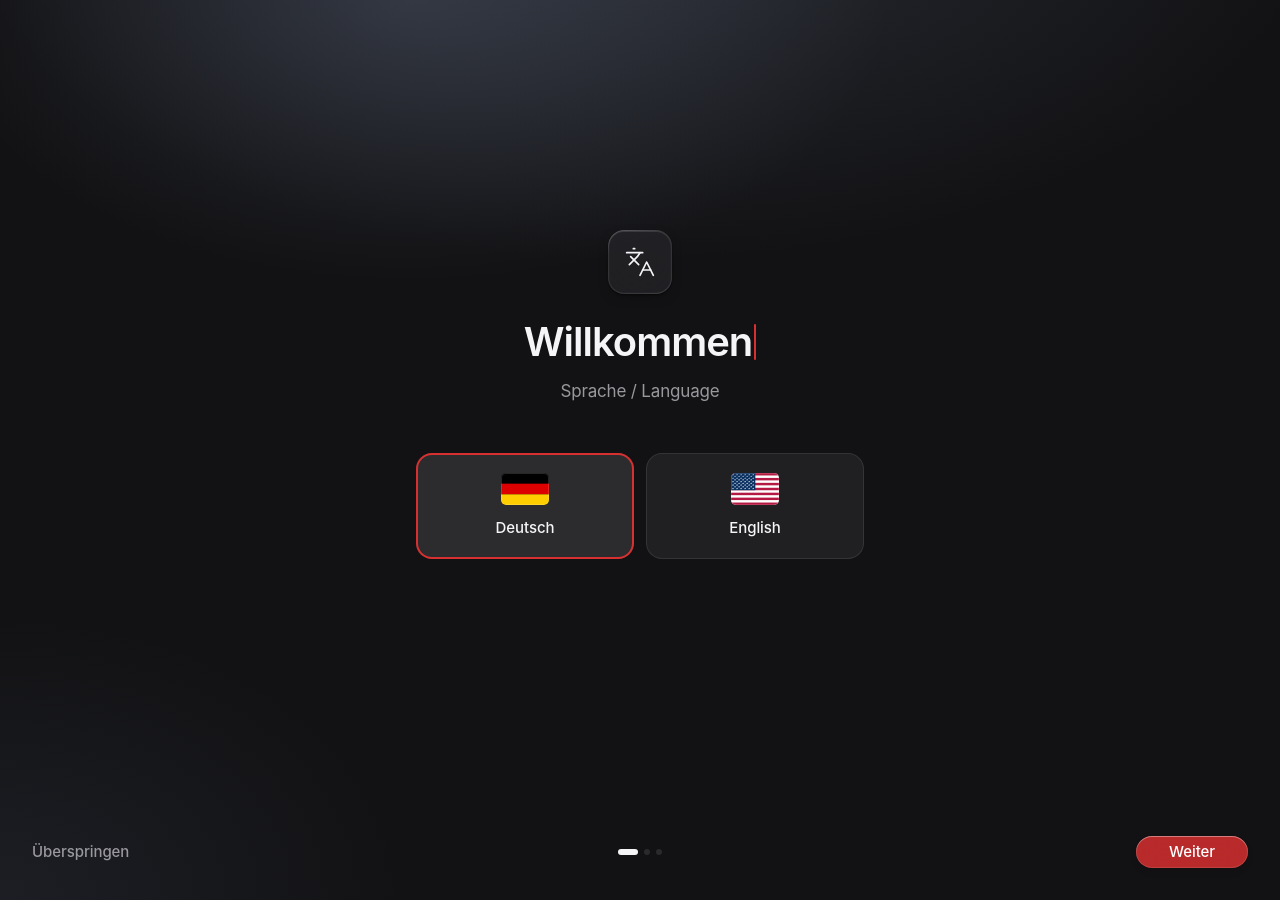
Test case: OnboardingHost › saves onboarded when skipped, with the language chosen so far
What coordinates should you click on to do the following:
click the radio button labelled "English"
I would click on:
 (755, 506)
Its box is 646,453 -> 864,559.
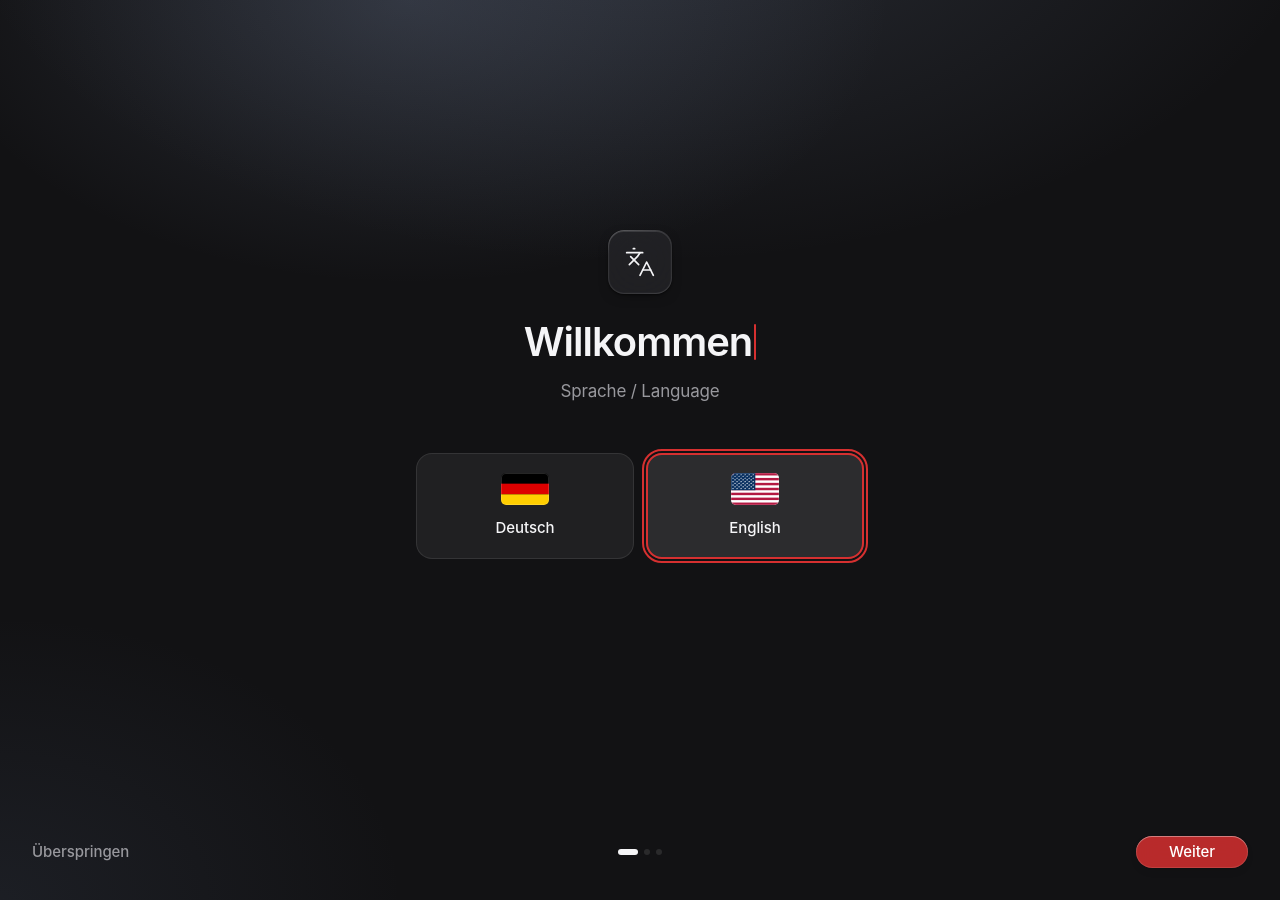
What coordinates should you click on to do the following:
click the button "Überspringen"
I would click on:
 (81, 852)
Its box is 16,836 -> 145,868.
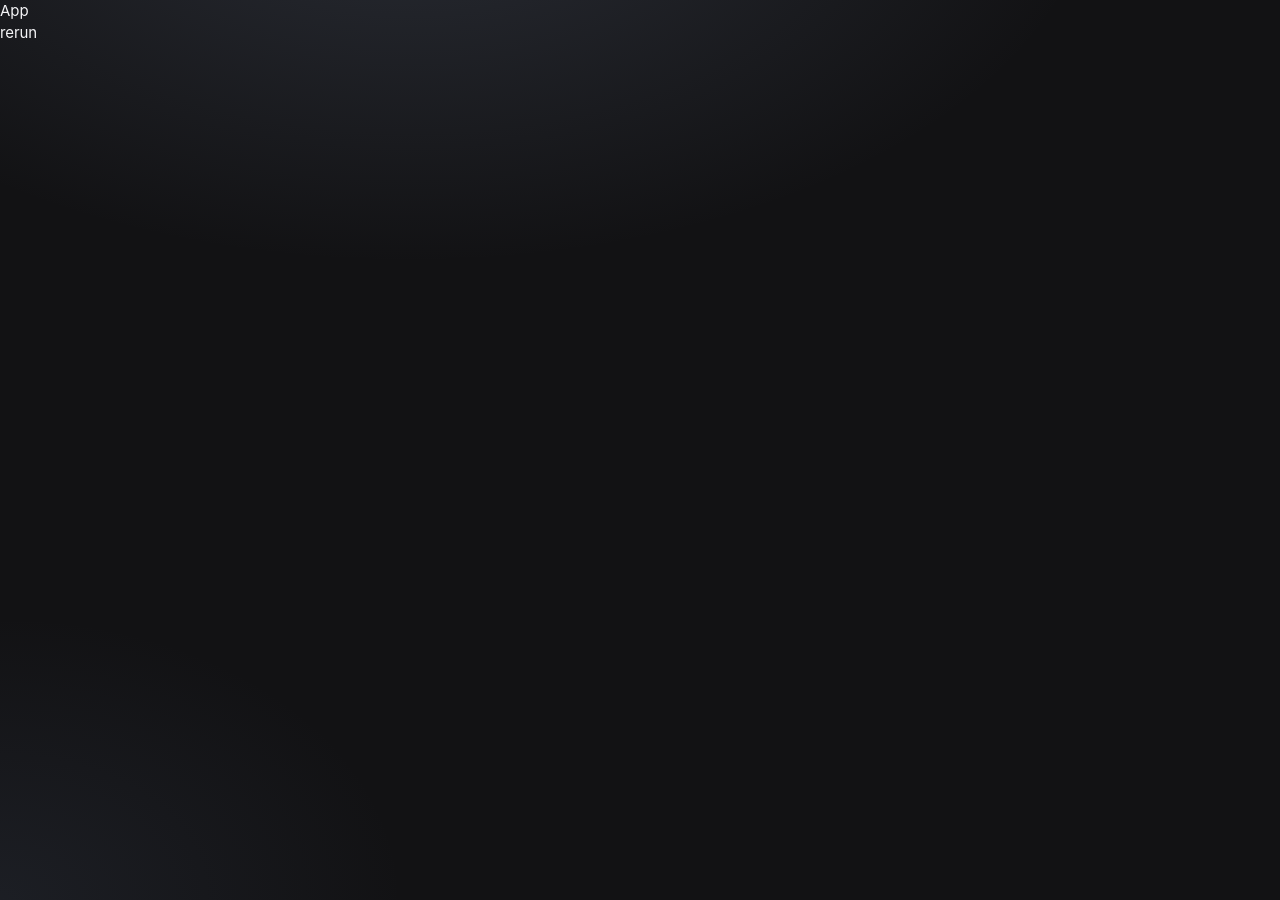
expect the text "Willkommen" is gone: met
